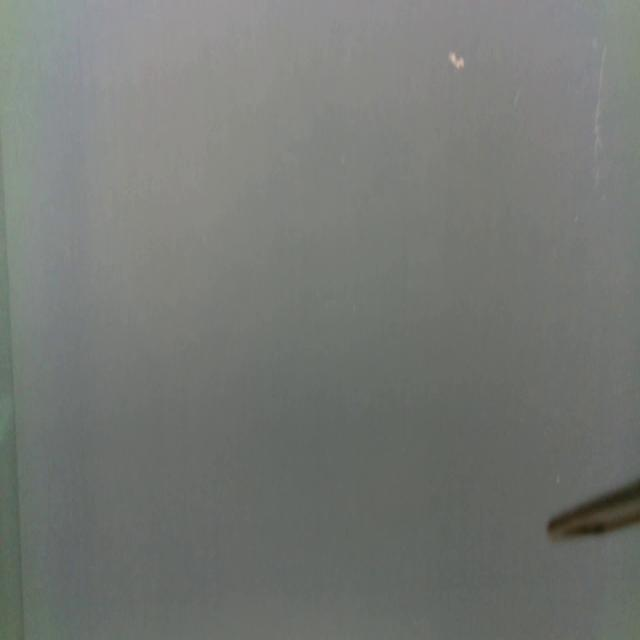crease: (1, 163, 25, 640)
hole: (447, 49, 466, 71)
